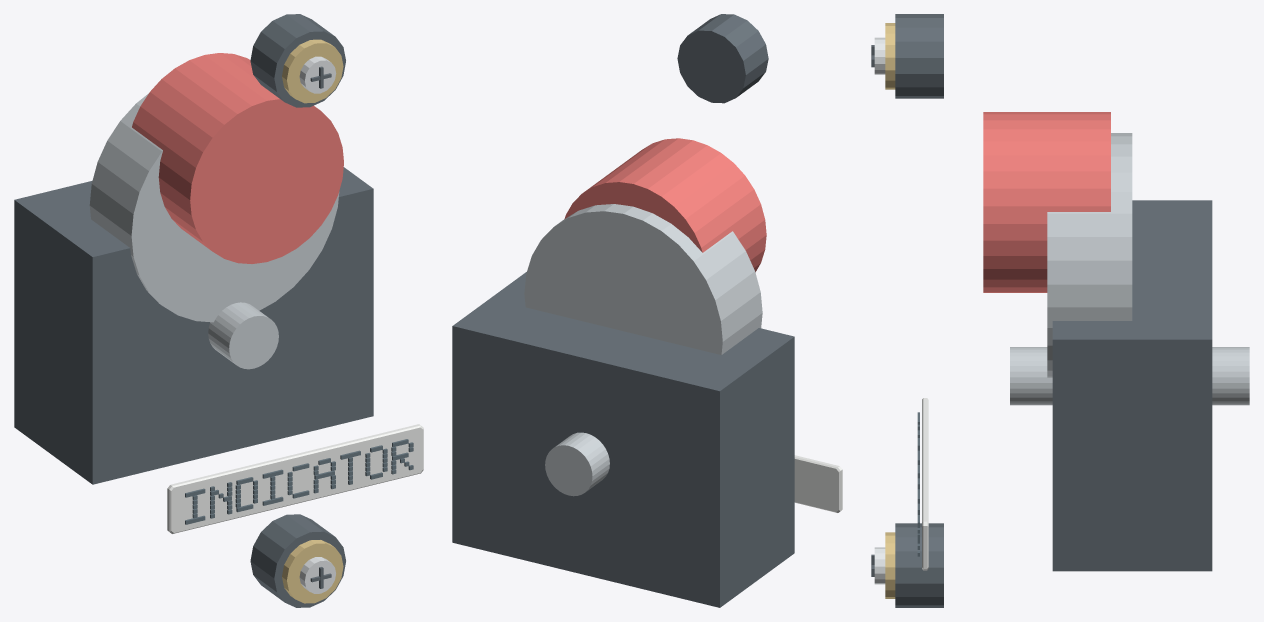
File: indicator.glb
The picture shows the model from 3 angles, left to right: view 1: azimuth 30°, elevation 25°; view 2: azimuth 150°, elevation 25°; view 3: azimuth 270°, elevation 25°; orthographic projection. The views are drawn at different scales.
Parts seen in each view (by area): view 1: indicator-preview; view 2: indicator-preview; view 3: indicator-preview.
Boxes of the visible parts, x1,y1,x2,y2 form: indicator-preview: (14,14,423,607); indicator-preview: (452,14,842,607); indicator-preview: (871,14,1249,607).
Size of the model in its own units: 1.22 by 2.4 by 1.4.
